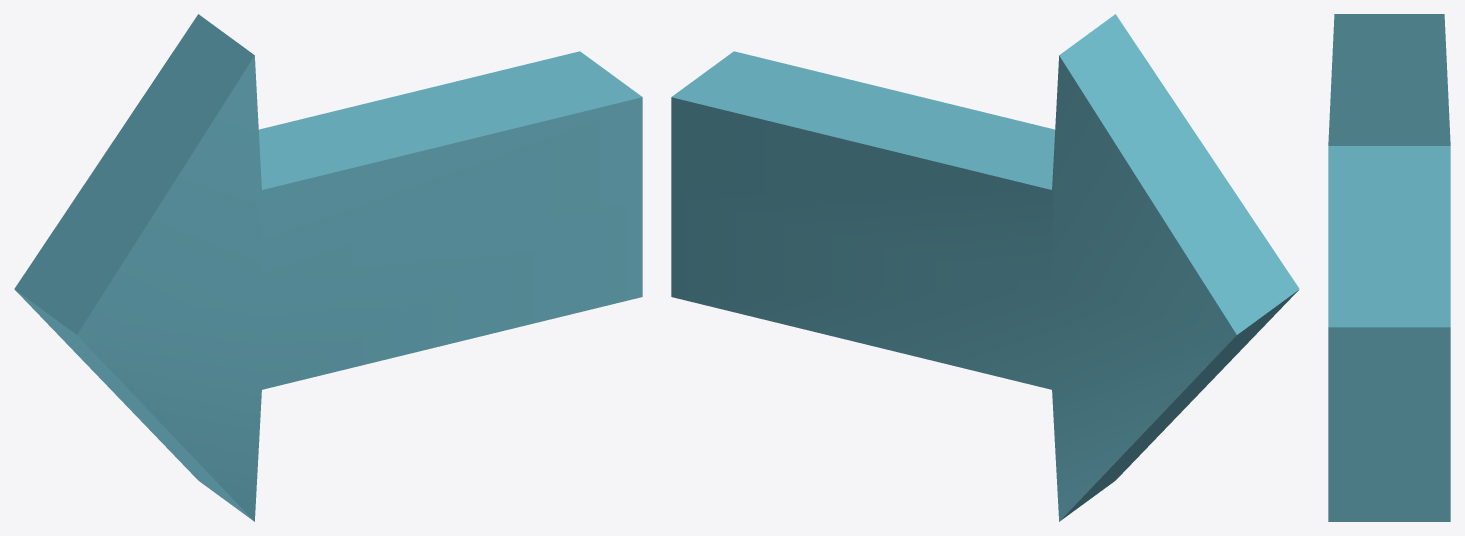
The model's file is arrow.fbx.
The picture shows the model from 3 angles, left to right: view 1: azimuth 30°, elevation 25°; view 2: azimuth 150°, elevation 25°; view 3: azimuth 270°, elevation 25°; orthographic projection. The views are drawn at different scales.
Parts seen in each view (by area): view 1: Cube; view 2: Cube; view 3: Cube.
Part boxes in pixels (<box>): Cube: <box>14,14,642,521</box>; Cube: <box>671,14,1299,521</box>; Cube: <box>1328,14,1450,521</box>.
Bounding box in the file's own units: 277 × 219 × 53.27.
